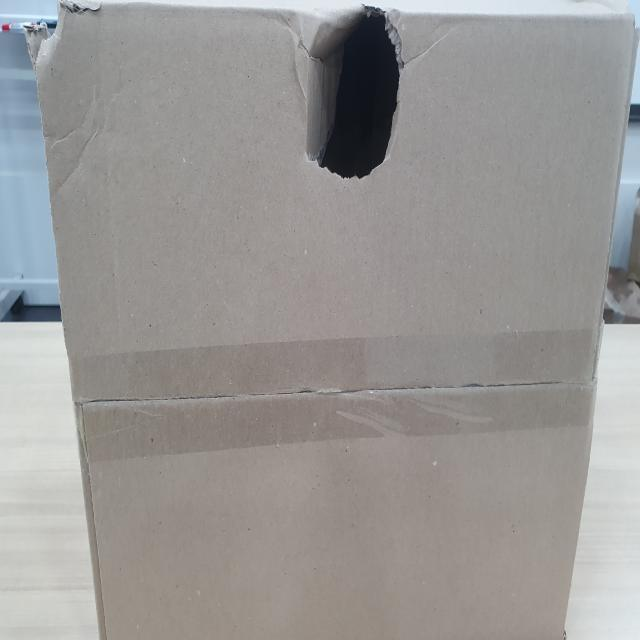hole: (294, 0, 412, 180)
